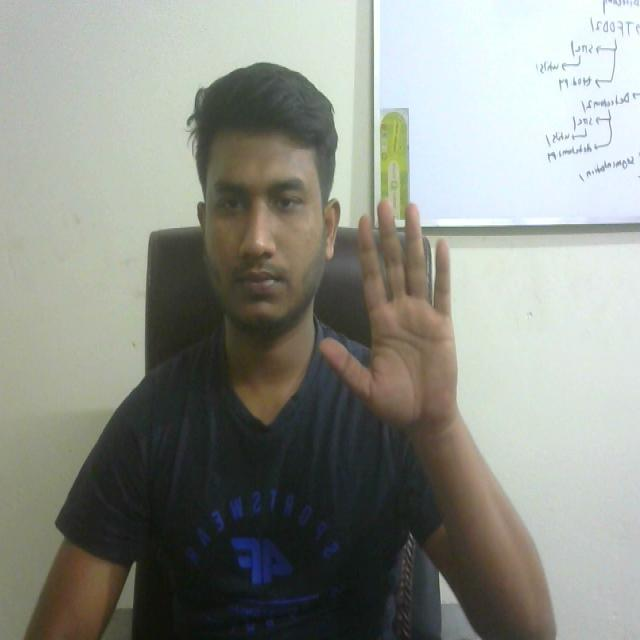A: (315, 201, 471, 447)
